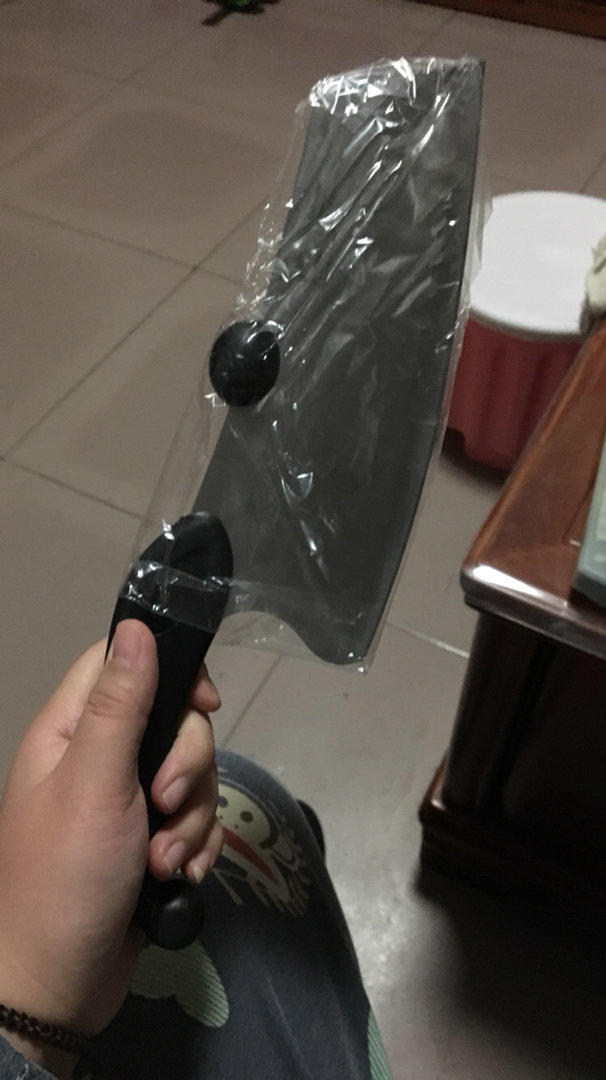knief: (157, 47, 502, 909)
